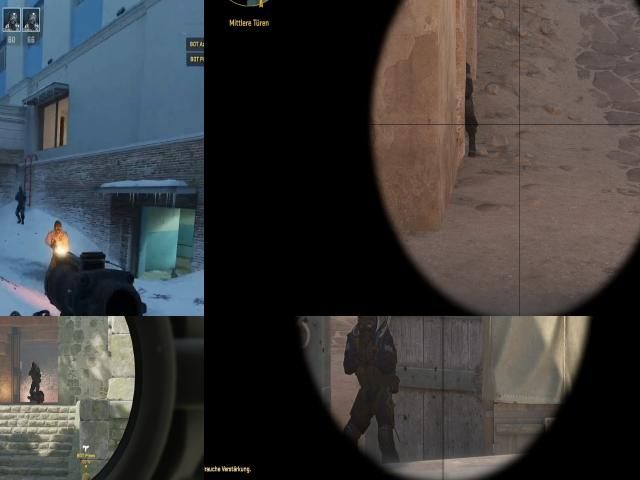CT: (342, 316, 396, 463), (26, 355, 44, 404), (466, 59, 476, 147), (15, 182, 30, 214)
CT-Head: (355, 316, 380, 335), (15, 186, 24, 198), (29, 360, 38, 372)
Dead: (29, 390, 46, 404)
T: (48, 217, 69, 260)
T-Head: (51, 218, 65, 236)
